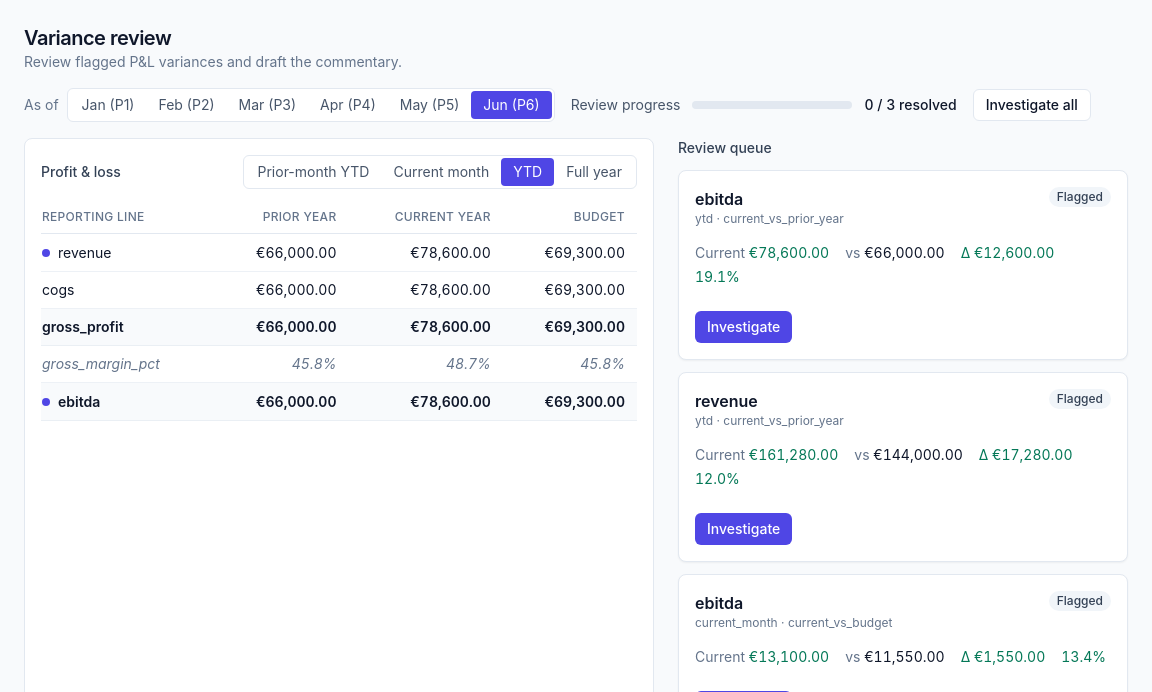
Test: review flows › investigate → drafted, then accept → accepted (progress updates)
Click the button "Investigate" below "19.1%" at (744, 327), box [695,311,792,343]
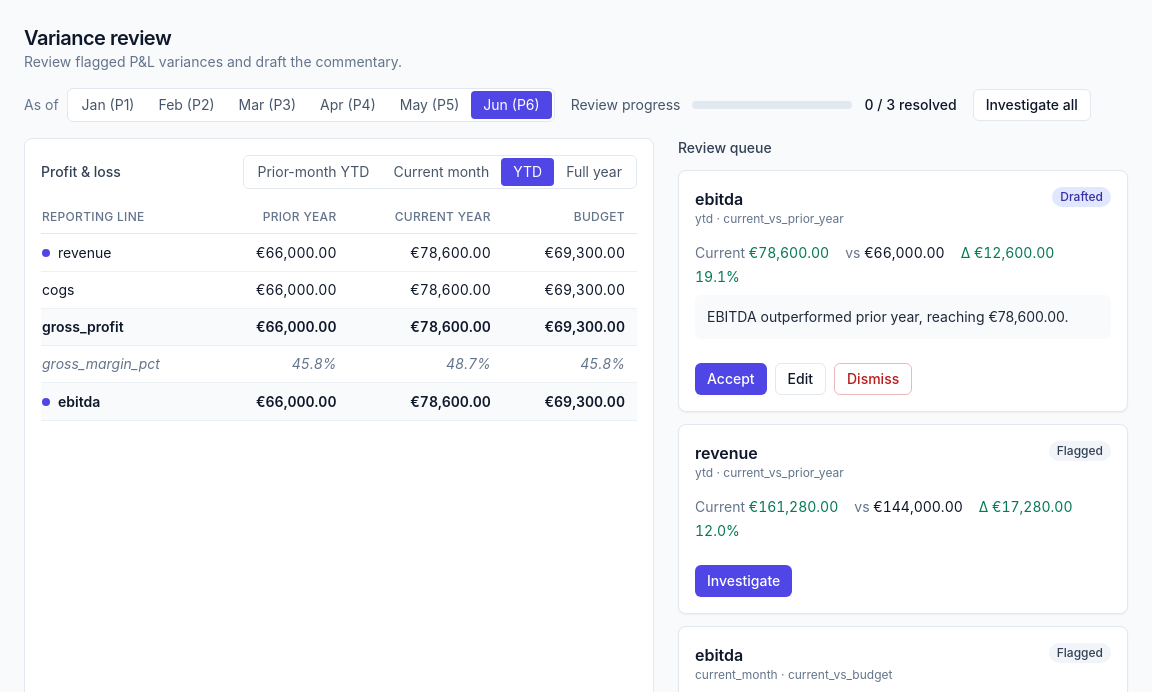
Click the button "Accept" at (731, 379), box [695,363,767,395]
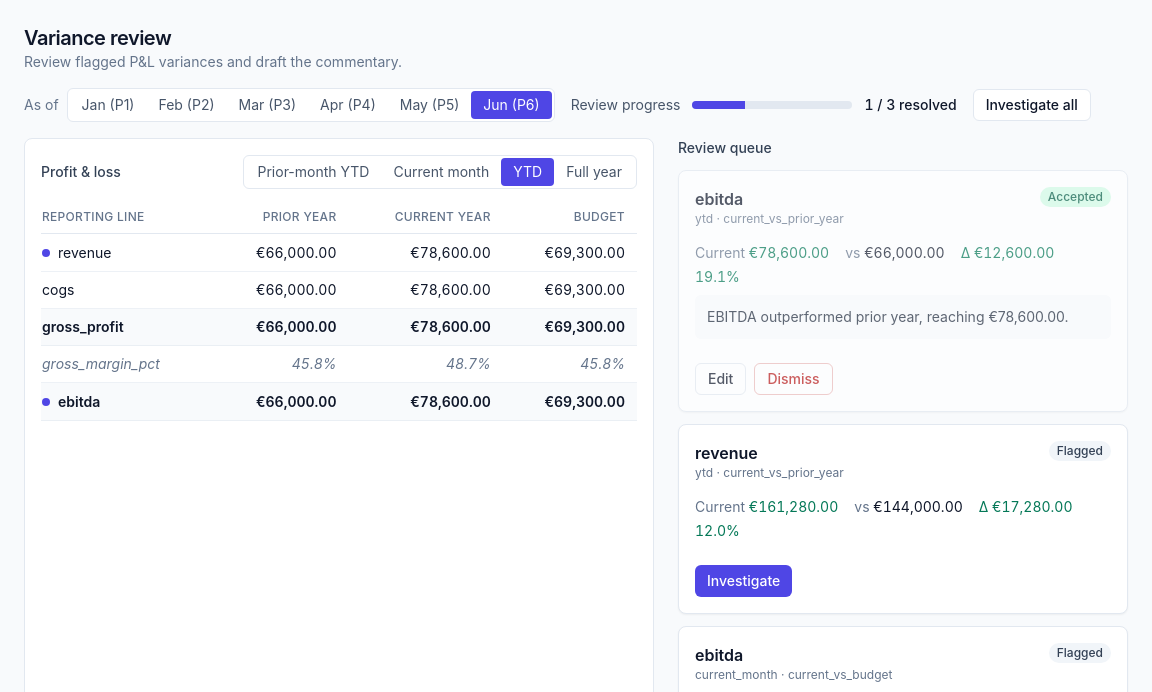
Result: the text "1 / 3 resolved" is shown at [864,95,957,115]
